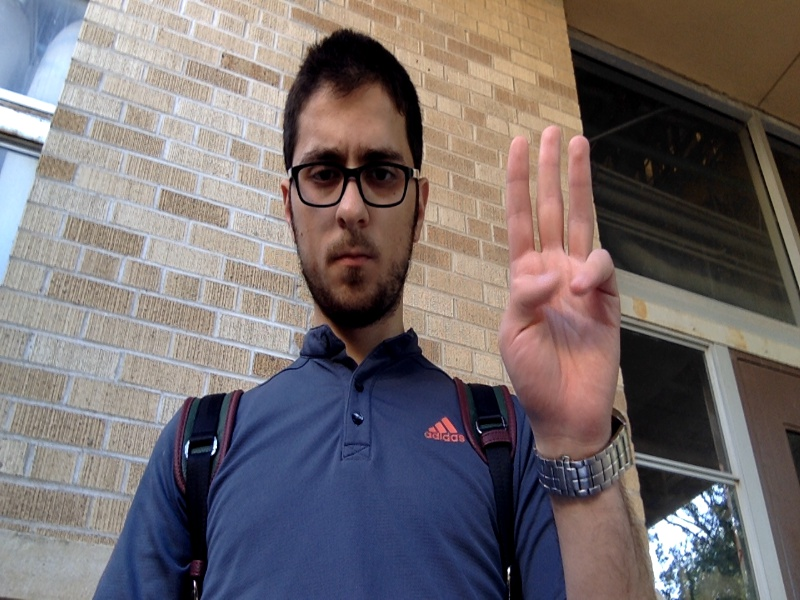3-hand: (502, 127, 620, 438)
